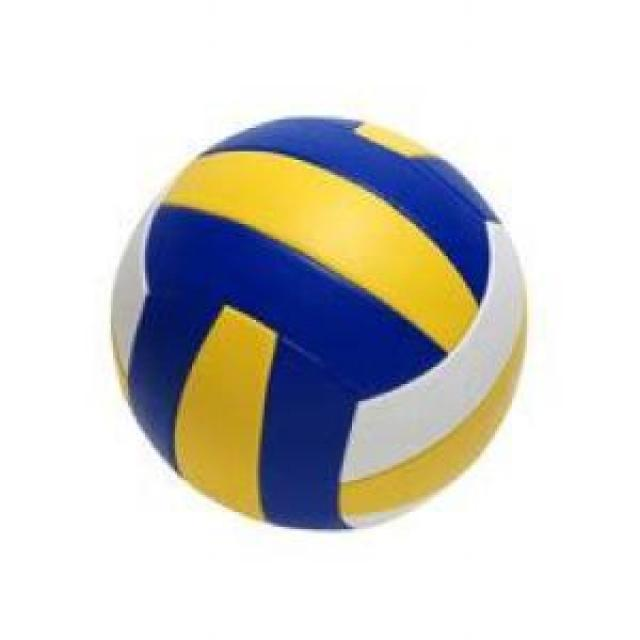volleyball: (110, 116, 530, 534)
